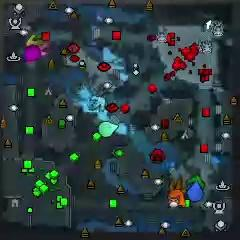p1: (189, 180, 203, 203)
p2: (99, 121, 119, 137)
p3: (24, 45, 41, 62)
p5: (168, 189, 186, 206)
x1: (34, 43, 50, 58)
x2: (25, 34, 44, 46)
x3: (90, 95, 106, 111)
x4: (187, 175, 206, 188)
x5: (167, 176, 185, 194)
